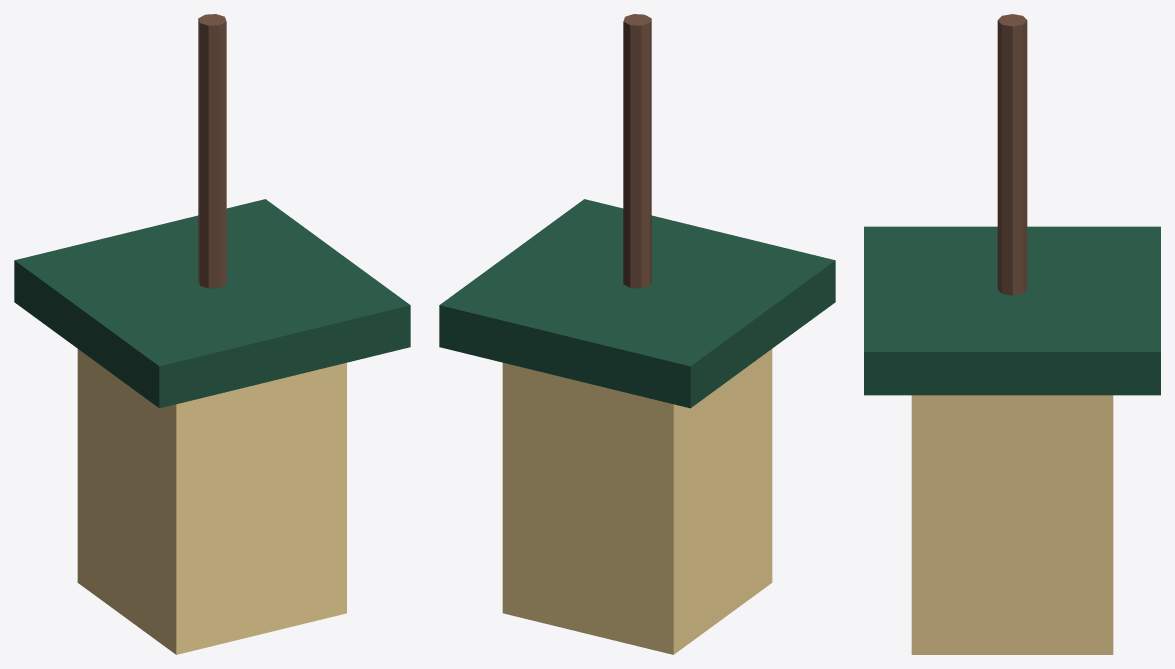
Rendered from lantern-hanging.glb.
The picture shows the model from 3 angles, left to right: view 1: azimuth 30°, elevation 25°; view 2: azimuth 150°, elevation 25°; view 3: azimuth 270°, elevation 25°; orthographic projection. The views are drawn at different scales.
Parts seen in each view (by area): view 1: HangingMesh; view 2: HangingMesh; view 3: HangingMesh.
Part boxes in pixels (bbox=[...]): HangingMesh: bbox=[14, 14, 410, 654]; HangingMesh: bbox=[439, 14, 835, 654]; HangingMesh: bbox=[864, 14, 1160, 654].
Size of the model in its own units: 0.5 by 1.1 by 0.5.
1 material, 1 textured.
